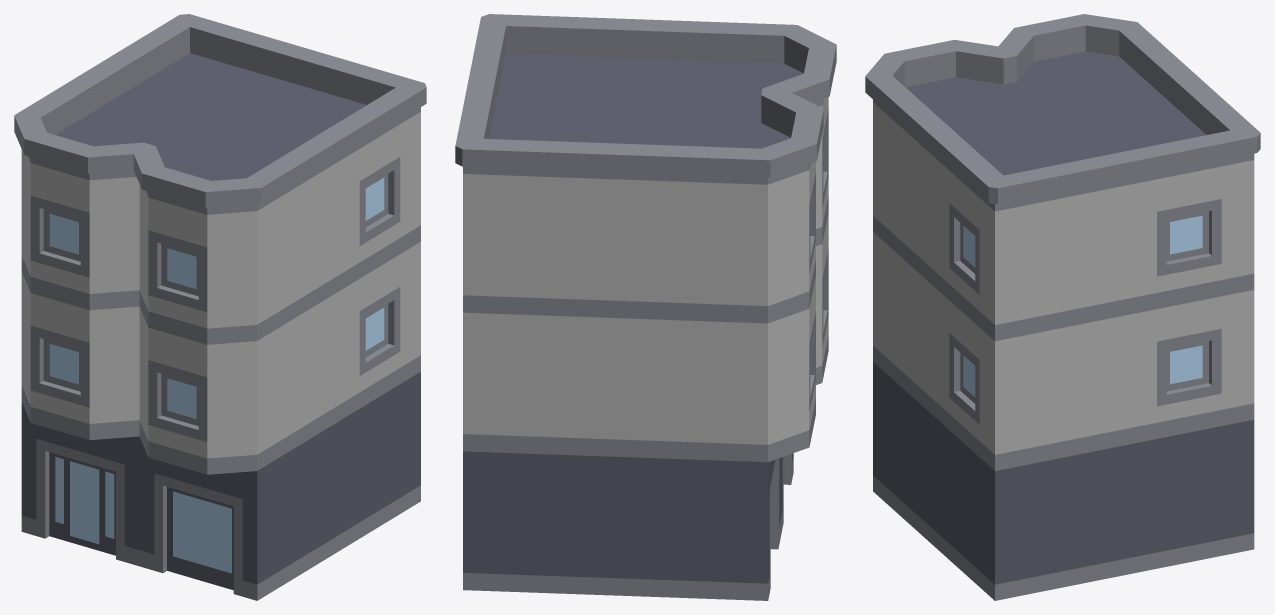
File: variant_16.fbx
3 renders of one model, left to right at view 1: azimuth 30°, elevation 25°; view 2: azimuth 150°, elevation 25°; view 3: azimuth 270°, elevation 25°, orthographic. The views are drawn at different scales.
Visible parts, largest first — view 1: small_buildingA; view 2: small_buildingA; view 3: small_buildingA.
Part boxes in pixels (x1,y1,x2,y2): small_buildingA: [14, 14, 426, 600]; small_buildingA: [455, 14, 836, 600]; small_buildingA: [865, 14, 1260, 600].
Size of the model in its own units: 115 by 128 by 110.
